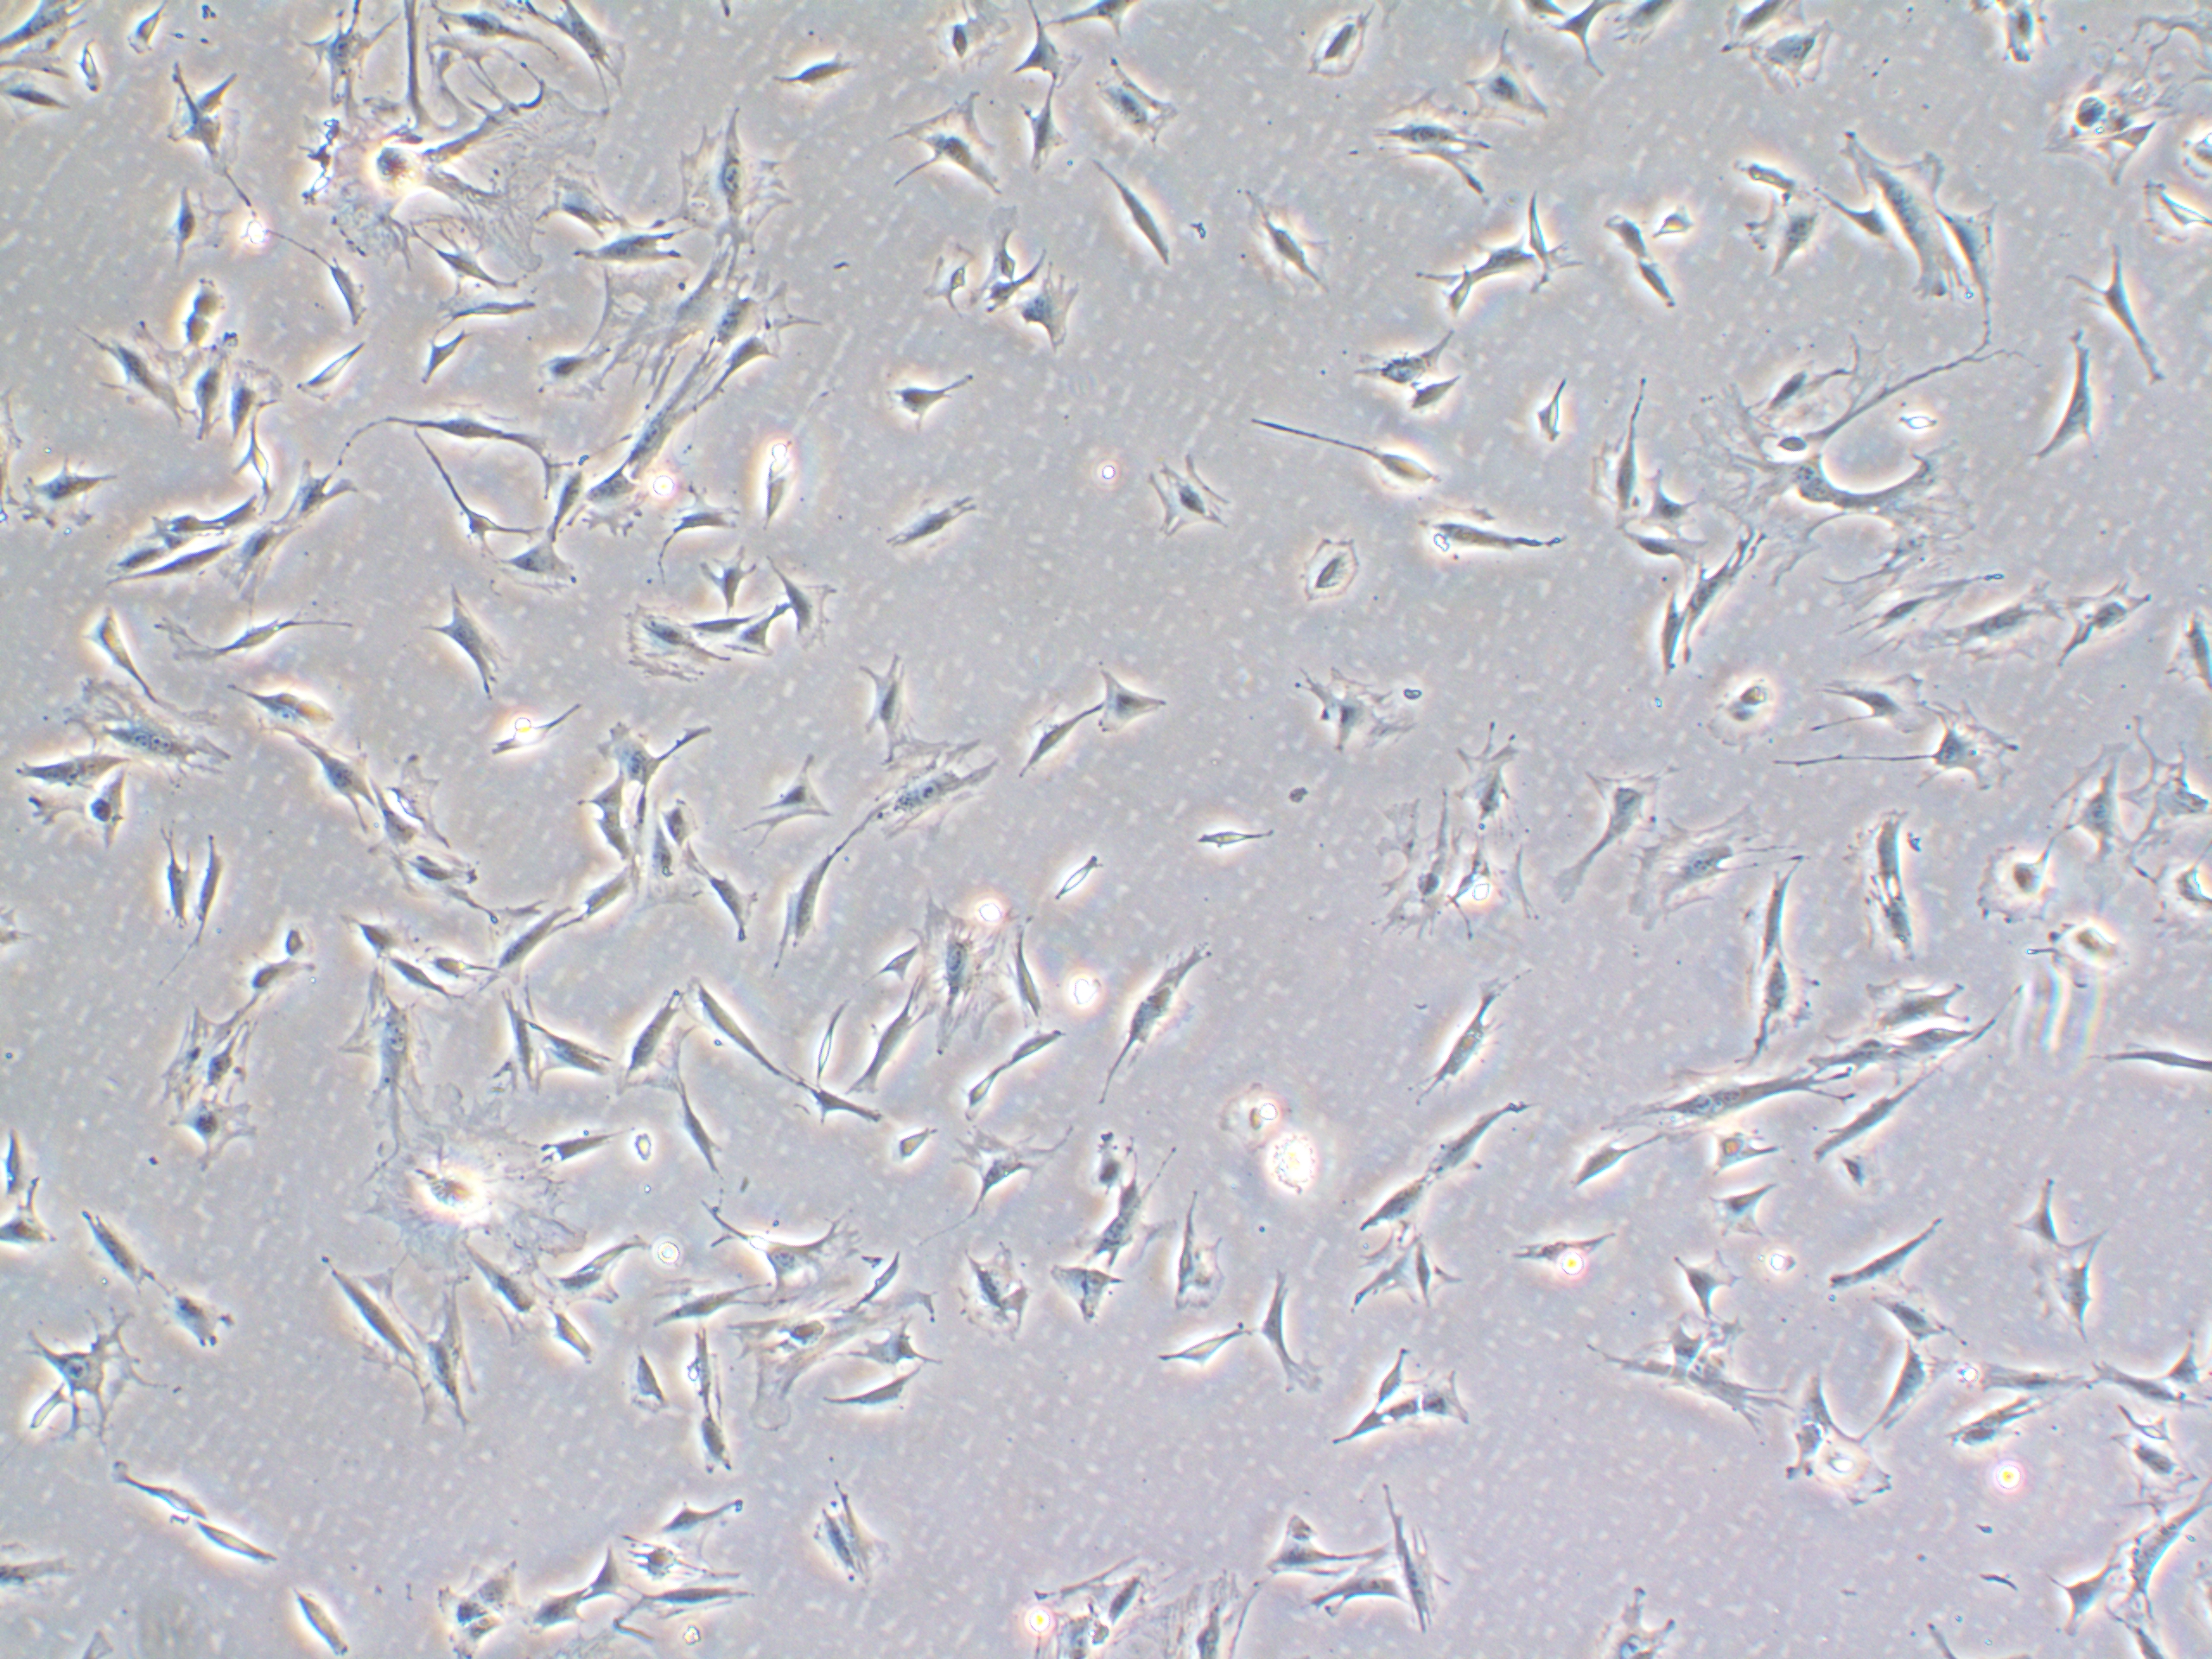small: (1277, 502, 1402, 627), (1702, 645, 1801, 746), (1646, 183, 1735, 247), (540, 1307, 613, 1378), (110, 0, 183, 64), (1700, 1127, 1787, 1178), (179, 260, 244, 322), (880, 1114, 944, 1173), (273, 911, 331, 972), (164, 310, 212, 355)
spread: (317, 1084, 578, 1272), (401, 75, 631, 260), (1676, 427, 2008, 544), (726, 1253, 941, 1425), (604, 246, 801, 394), (662, 94, 834, 256), (1620, 781, 1787, 939), (298, 105, 462, 261), (68, 674, 253, 803), (888, 894, 1028, 1054), (331, 964, 442, 1154), (1364, 802, 1500, 948), (707, 1204, 881, 1316), (873, 723, 1003, 859), (1350, 92, 1501, 202), (150, 995, 265, 1115), (1224, 179, 1338, 296), (601, 601, 738, 695)
